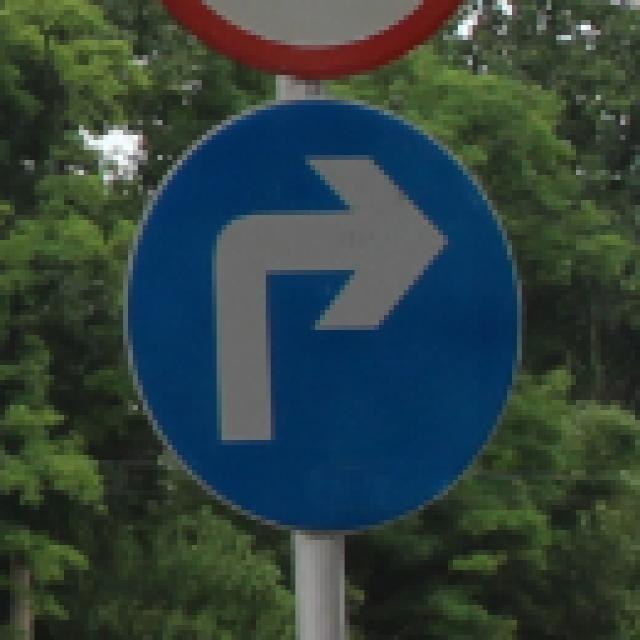Right: (103, 80, 538, 548)
